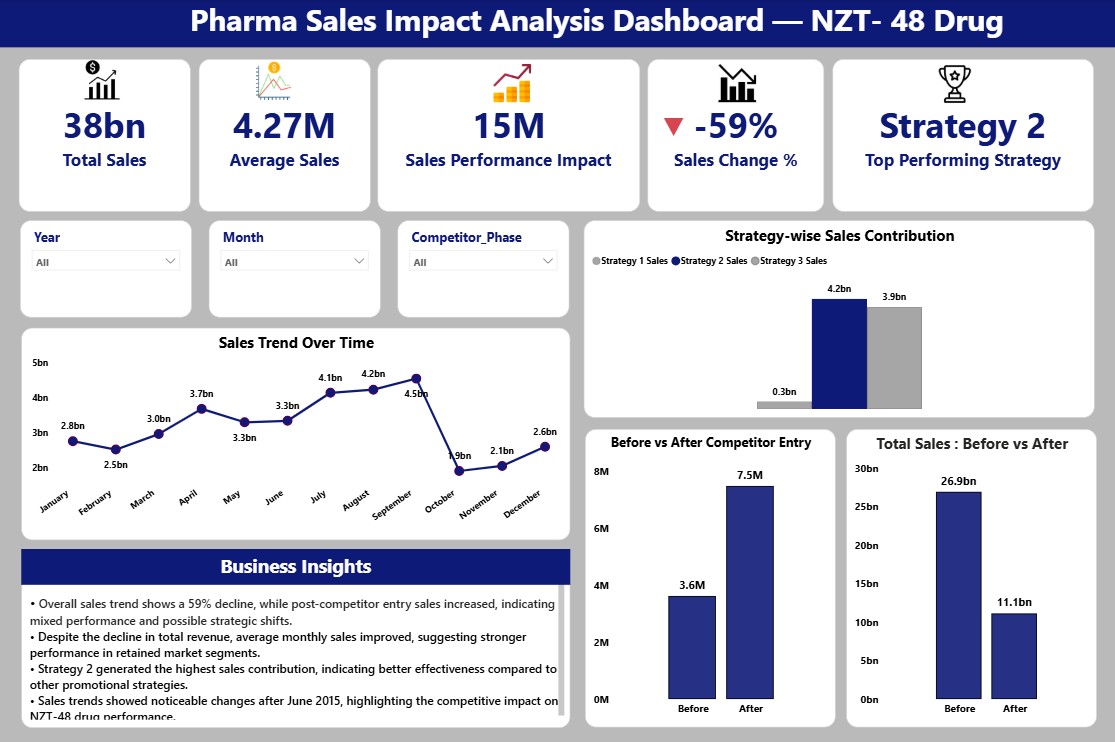

This screenshot's page, from the dashboard's own definition file:
{"tool":"powerbi","page":{"name":"Pharma Marketing Sales Dashboard","canvas":[1500,1000],"ordinal":0},"visuals":[{"type":"image","box":[88,80,96,56],"z":0,"group":"g2"},{"type":"lineChart","fields":{"Y":["cleaned_data.Total_Sales"],"Category":["cleaned_data.month.Variation.Date Hierarchy.Month1"]},"box":[28,441,736,285],"z":0},{"type":"image","box":[316.4,80,100,58.2],"z":1000,"group":"g2"},{"type":"clusteredColumnChart","title":"Before vs After Competitor Entry","fields":{"Category":["cleaned_data.Competitor_Phase"],"Y":["cleaned_data.Avg_Sales"]},"box":[784,576,336,400],"z":1000},{"type":"image","box":[635.5,87.3,100,50.9],"z":2000,"group":"g2"},{"type":"clusteredColumnChart","title":"Total Sales : Before vs After","fields":{"Y":["cleaned_data.Total_Sales"],"Category":["cleaned_data.Competitor_Phase"]},"box":[1134,576,336,400],"z":2000},{"type":"image","box":[938.2,87.3,100,50.9],"z":3000,"group":"g2"},{"type":"clusteredColumnChart","title":"Strategy-wise Sales Contribution","fields":{"Y":["cleaned_data.Strategy 1 Sales","cleaned_data.Strategy 2 Sales","cleaned_data.Strategy 3 Sales"]},"box":[782,297,685,265],"z":3000},{"type":"cardVisual","fields":{"Data":["cleaned_data.Total_Sales"]},"box":[25.1,80,230,205],"z":4000},{"type":"image","box":[1228.9,87.8,100,50],"z":4000,"group":"g2"},{"type":"cardVisual","fields":{"Data":["cleaned_data.Avg_Sales"]},"box":[265.6,80,230,205],"z":5000},{"type":"cardVisual","fields":{"Data":["cleaned_data.Revenue Loss"]},"box":[506,80,352,205],"z":6000},{"type":"cardVisual","fields":{"Data":["cleaned_data.Sales Decline %"]},"box":[868.5,80,237,205],"z":7000},{"type":"cardVisual","fields":{"Data":["cleaned_data.Top Performing Strategy"]},"box":[1116,80,350.2,205],"z":8000},{"type":"slicer","fields":{"Values":["cleaned_data.month.Variation.Date Hierarchy.Year"]},"box":[26.8,296.6,230,130.7],"z":9000},{"type":"slicer","fields":{"Values":["cleaned_data.month.Variation.Date Hierarchy.Month"]},"box":[279.5,296.6,230,130.7],"z":10000},{"type":"slicer","fields":{"Values":["cleaned_data.Competitor_Phase"]},"box":[532.3,296.6,230,130.7],"z":11000},{"type":"textbox","title":"Pharma Sales Impact Analysis Dashboard — NZT- 48 Drug","box":[0,0,1600,65],"z":12000},{"type":"group","id":"g1","title":"Group 2","box":[28,738,736,240],"z":13000},{"type":"textbox","title":"Business Insights","box":[28,738,736,240],"z":13000,"group":"g1"},{"type":"group","id":"g2","title":"Group 1","box":[88,80,1240.9,58.2],"z":14000},{"type":"shape","title":"Business Insights","box":[28,738,736,48],"z":14006,"group":"g1"},{"type":"cardVisual","fields":{"Data":["cleaned_data.Trend Icon"]},"box":[880,144,48,48],"z":15000}]}

Visuals, with their boxes in screenshot pixels (x1, y1, x2, y2), scaled from the page's 1500x1000 canvas onto the 1115x742 screenshot:
image: left=65, top=59, right=137, bottom=101
lineChart - cleaned_data.Total_Sales x cleaned_data.month.Variation.Date Hierarchy.Month1: left=21, top=327, right=568, bottom=539
image: left=235, top=59, right=310, bottom=103
"Before vs After Competitor Entry" clusteredColumnChart: left=583, top=427, right=833, bottom=724
image: left=472, top=65, right=547, bottom=103
"Total Sales : Before vs After" clusteredColumnChart: left=843, top=427, right=1093, bottom=724
image: left=697, top=65, right=772, bottom=103
"Strategy-wise Sales Contribution" clusteredColumnChart: left=581, top=220, right=1090, bottom=417
cardVisual - cleaned_data.Total_Sales: left=19, top=59, right=190, bottom=211
image: left=913, top=65, right=988, bottom=102
cardVisual - cleaned_data.Avg_Sales: left=197, top=59, right=368, bottom=211
cardVisual - cleaned_data.Revenue Loss: left=376, top=59, right=638, bottom=211
cardVisual - cleaned_data.Sales Decline %: left=646, top=59, right=822, bottom=211
cardVisual - cleaned_data.Top Performing Strategy: left=830, top=59, right=1090, bottom=211
slicer - cleaned_data.month.Variation.Date Hierarchy.Year: left=20, top=220, right=191, bottom=317
slicer - cleaned_data.month.Variation.Date Hierarchy.Month: left=208, top=220, right=379, bottom=317
slicer - cleaned_data.Competitor_Phase: left=396, top=220, right=567, bottom=317
"Pharma Sales Impact Analysis Dashboard — NZT- 48 Drug" textbox: left=0, top=0, right=1114, bottom=48
"Group 2" group: left=21, top=548, right=568, bottom=726
"Business Insights" textbox: left=21, top=548, right=568, bottom=726
"Group 1" group: left=65, top=59, right=988, bottom=103
"Business Insights" shape: left=21, top=548, right=568, bottom=583
cardVisual - cleaned_data.Trend Icon: left=654, top=107, right=690, bottom=142
